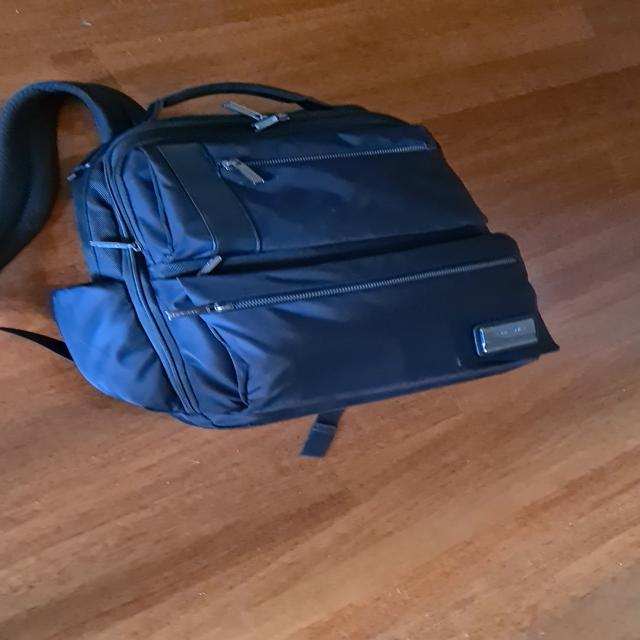backpack: (42, 70, 572, 440)
